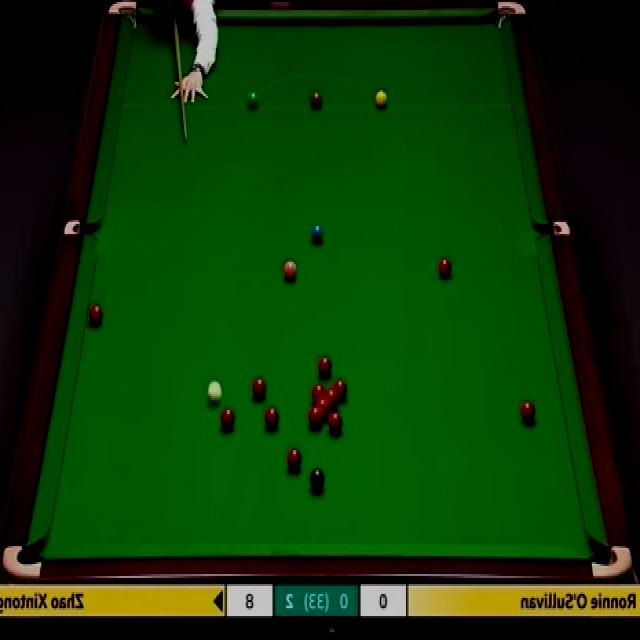pocket: (3, 542, 44, 580), (592, 543, 634, 579), (497, 0, 531, 31), (109, 0, 139, 32), (535, 217, 568, 237), (66, 220, 100, 237)
